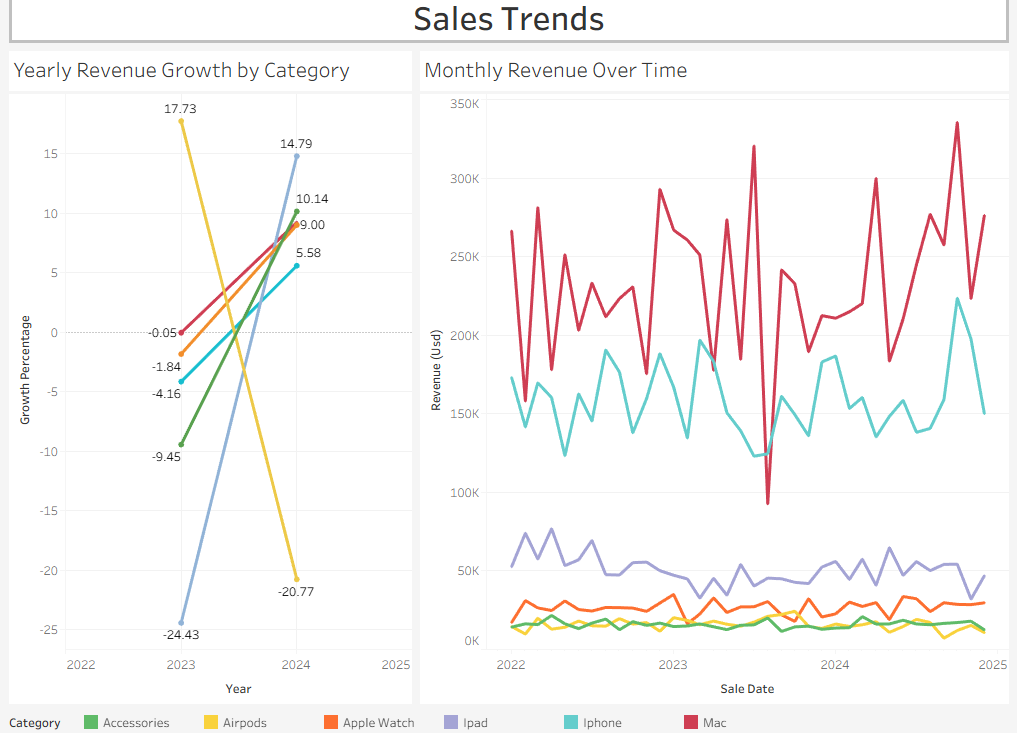

The page's visual inventory and layout, read from the dashboard file:
{"tool":"tableau","page":{"name":"Sales Trends","canvas":[1024,768],"ordinal":2},"visuals":[{"type":"title","box":[8,8,1008,59]},{"type":"worksheet","title":"Yearly Revenue Growth by Category","mark":"Line","rows":["yoy_growth_pct"],"cols":["year"],"box":[8,67,411,661]},{"type":"worksheet","title":"Monthly Revenue Over Time","mark":"Automatic","rows":["revenue_discounted_usd"],"cols":["sale_date"],"box":[419,67,597,661]},{"type":"legend","title":"Monthly Revenue Over Time","param":"[federated.1b0fkgo04lajpe1h7hosv1cskxv5].[none:category:nk]","box":[8,728,1008,32]}]}

Visuals, with their boxes on the page's 1024x768 design canvas (x1, y1, x2, y2). These are canvas units, not pixel positions in the 1017x733 screenshot, which may show the page scaled, cropped or inside an application window:
title: <bbox>8, 8, 1016, 67</bbox>
"Yearly Revenue Growth by Category" worksheet (Line marks): <bbox>8, 67, 419, 728</bbox>
"Monthly Revenue Over Time" worksheet: <bbox>419, 67, 1016, 728</bbox>
"Monthly Revenue Over Time" legend: <bbox>8, 728, 1016, 760</bbox>
